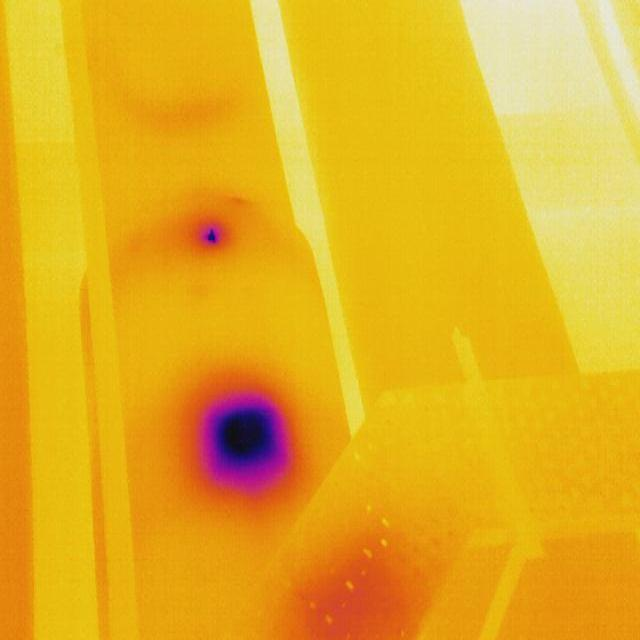leakage: (288, 526, 421, 636), (192, 385, 301, 501), (197, 224, 224, 253)
